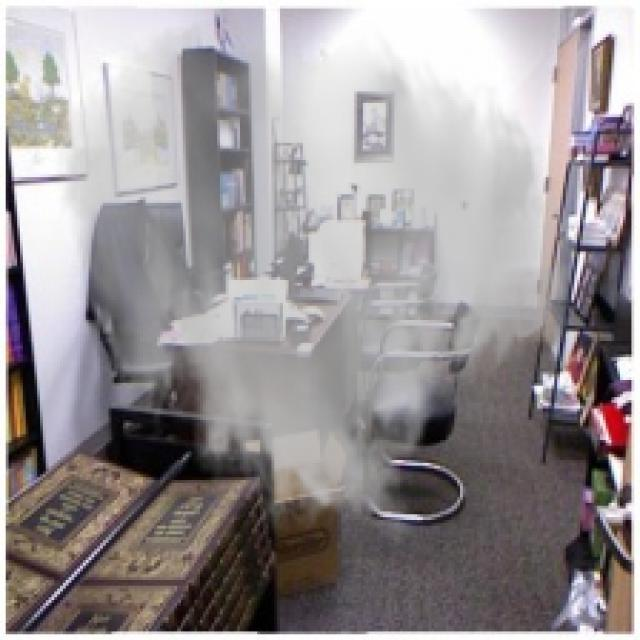smoke: (52, 14, 577, 546)
